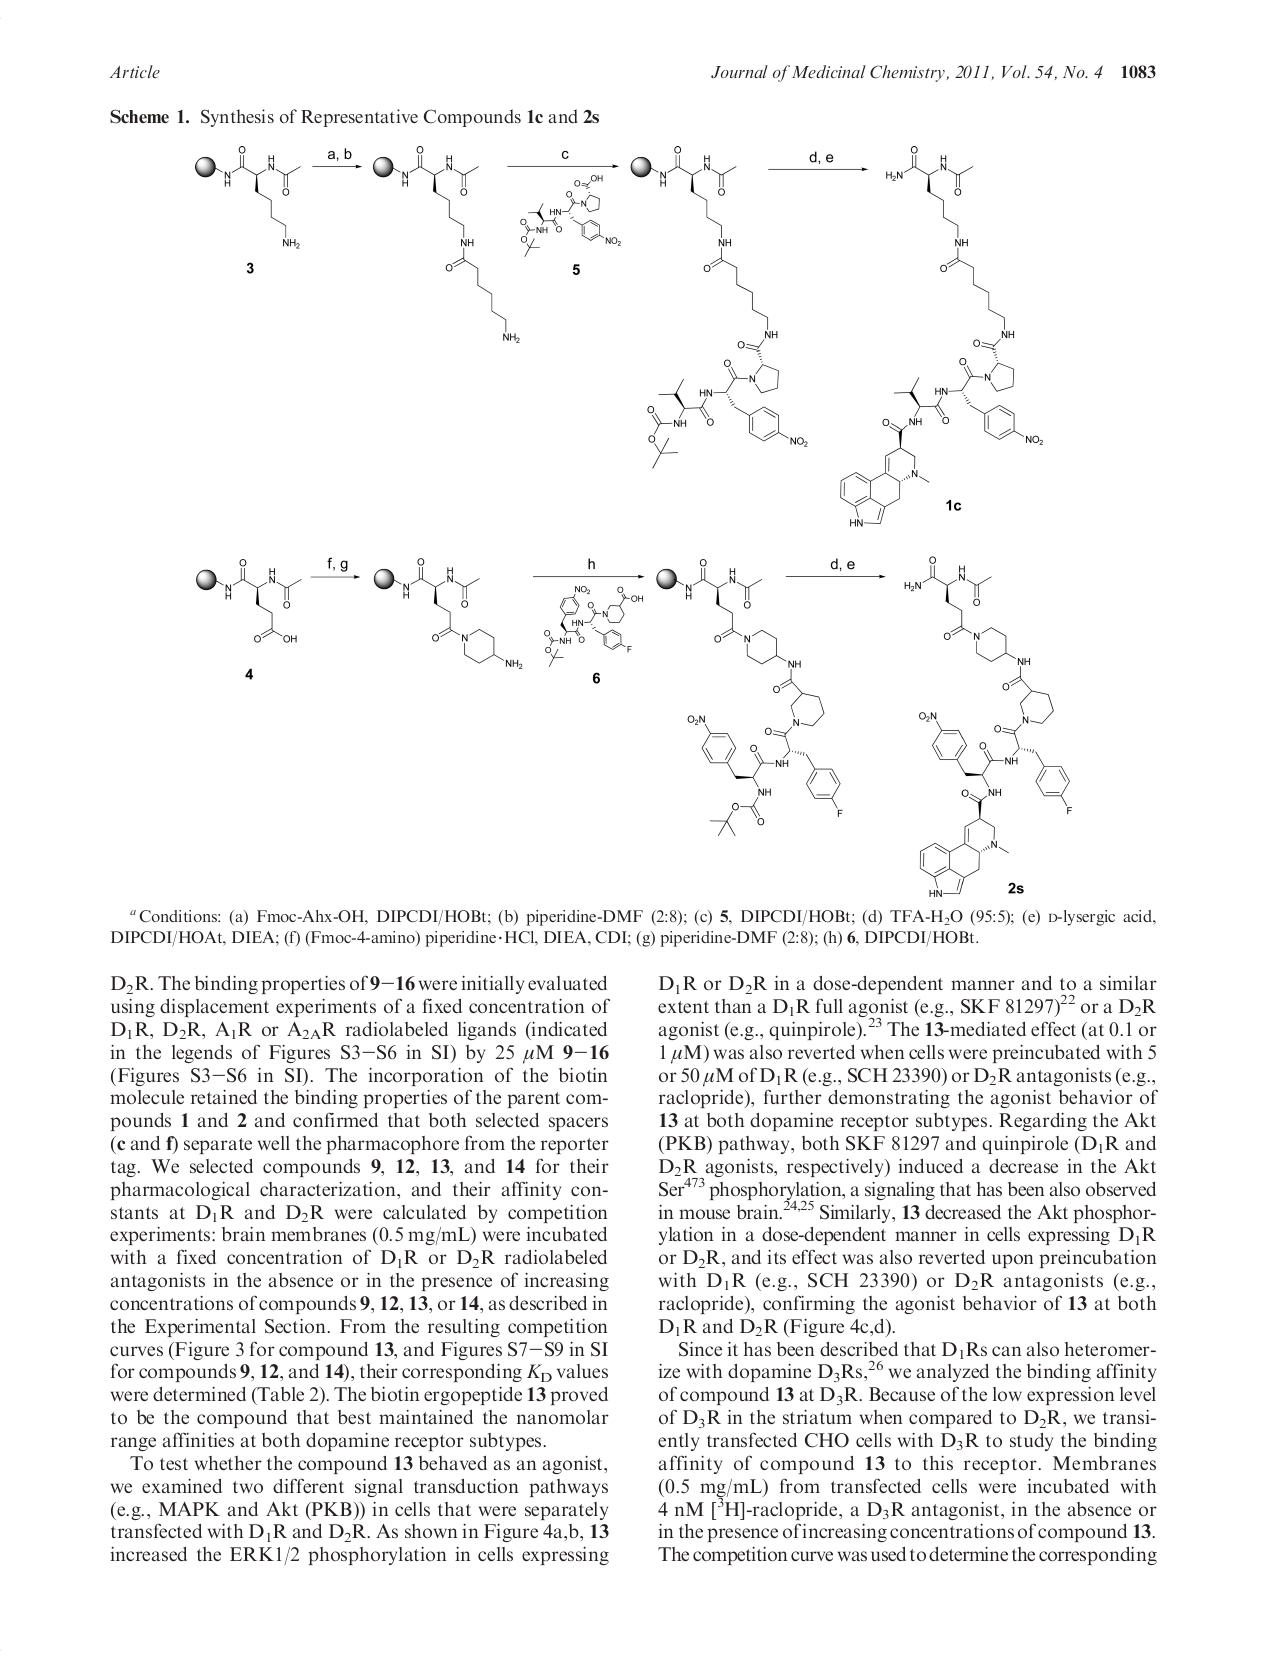exist_molecular: (838, 144, 1049, 531), (900, 551, 1076, 899), (628, 142, 809, 469), (656, 557, 847, 836), (368, 142, 523, 348), (371, 553, 524, 678), (189, 140, 309, 253), (193, 551, 306, 646), (539, 582, 648, 668), (519, 172, 622, 259)
